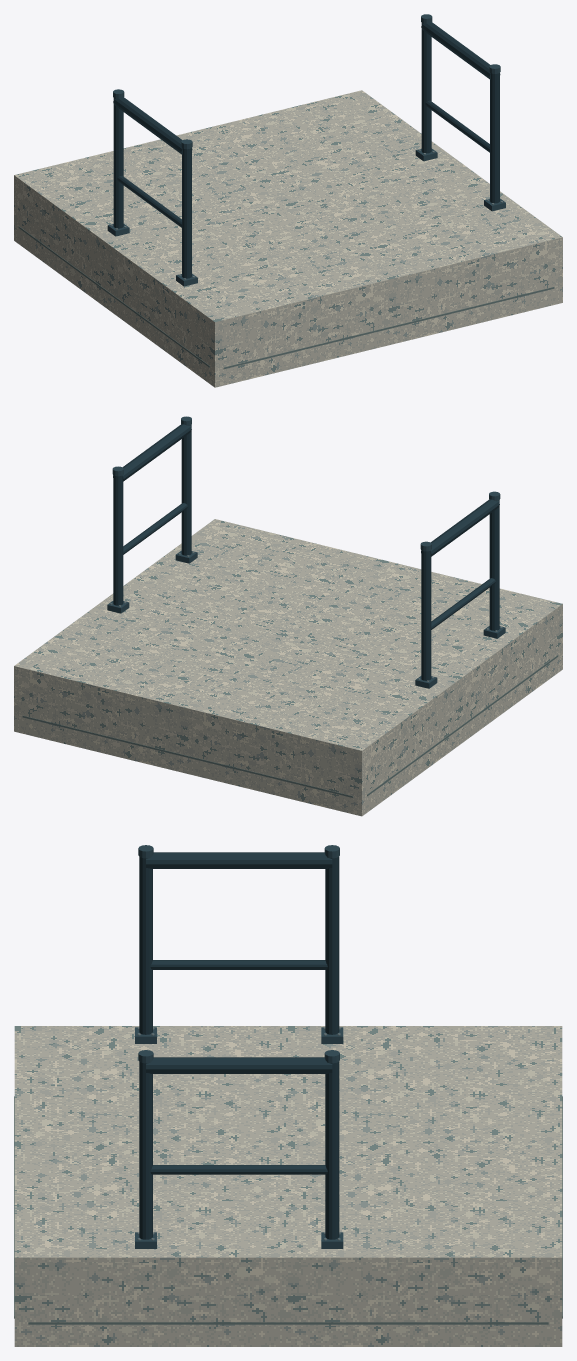
File: b_platform_exit.glb
3 views of the same model, one above another, from view 1: azimuth 30°, elevation 25°; view 2: azimuth 150°, elevation 25°; view 3: azimuth 270°, elevation 25° (orthographic). The views are drawn at different scales.
Parts seen in each view (by area): view 1: b_platform_exit, b_platform_exit_guard_0_post_1, b_platform_exit_guard_1_post_1, b_platform_exit_guard_0_post_0, b_platform_exit_guard_1_post_0, b_platform_exit_guard_0_top, b_platform_exit_guard_1_top, b_platform_exit_front_reveal_1, b_platform_exit_guard_0_low, b_platform_exit_guard_1_low, b_platform_exit_side_reveal_-1; view 2: b_platform_exit, b_platform_exit_guard_0_post_0, b_platform_exit_guard_1_post_0, b_platform_exit_guard_1_post_1, b_platform_exit_guard_0_post_1, b_platform_exit_guard_1_top, b_platform_exit_guard_0_top, b_platform_exit_front_reveal_-1, b_platform_exit_guard_0_low, b_platform_exit_guard_1_low, b_platform_exit_side_reveal_-1; view 3: b_platform_exit, b_platform_exit_guard_0_top, b_platform_exit_guard_1_top, b_platform_exit_guard_1_post_0, b_platform_exit_guard_0_post_0, b_platform_exit_guard_1_post_1, b_platform_exit_guard_0_post_1, b_platform_exit_guard_0_low, b_platform_exit_guard_1_low, b_platform_exit_side_reveal_1.
Part boxes in pixels (<box>): b_platform_exit: <box>14,90,562,387</box>; b_platform_exit_guard_0_post_1: <box>182,148,191,278</box>; b_platform_exit_guard_1_post_1: <box>490,73,499,203</box>; b_platform_exit_guard_0_post_0: <box>113,98,123,228</box>; b_platform_exit_guard_1_post_0: <box>421,23,431,153</box>; b_platform_exit_guard_0_top: <box>113,97,192,154</box>; b_platform_exit_guard_1_top: <box>421,22,500,79</box>; b_platform_exit_front_reveal_1: <box>223,287,554,369</box>; b_platform_exit_guard_0_low: <box>117,175,181,227</box>; b_platform_exit_guard_1_low: <box>425,100,489,152</box>; b_platform_exit_side_reveal_-1: <box>18,226,209,367</box>; b_platform_exit: <box>14,519,562,816</box>; b_platform_exit_guard_0_post_0: <box>421,550,431,680</box>; b_platform_exit_guard_1_post_0: <box>113,475,123,605</box>; b_platform_exit_guard_1_post_1: <box>181,425,191,555</box>; b_platform_exit_guard_0_post_1: <box>489,500,499,630</box>; b_platform_exit_guard_1_top: <box>113,424,191,481</box>; b_platform_exit_guard_0_top: <box>421,499,499,556</box>; b_platform_exit_front_reveal_-1: <box>22,715,353,797</box>; b_platform_exit_guard_0_low: <box>431,578,495,629</box>; b_platform_exit_guard_1_low: <box>123,503,187,554</box>; b_platform_exit_side_reveal_-1: <box>367,655,558,796</box>; b_platform_exit: <box>14,1026,562,1346</box>; b_platform_exit_guard_0_top: <box>146,852,332,868</box>; b_platform_exit_guard_1_top: <box>146,1057,332,1073</box>; b_platform_exit_guard_1_post_0: <box>325,1061,339,1239</box>; b_platform_exit_guard_0_post_0: <box>325,857,339,1034</box>; b_platform_exit_guard_1_post_1: <box>139,1062,152,1239</box>; b_platform_exit_guard_0_post_1: <box>139,857,152,1034</box>; b_platform_exit_guard_0_low: <box>150,960,327,969</box>; b_platform_exit_guard_1_low: <box>150,1165,327,1174</box>; b_platform_exit_side_reveal_1: <box>28,1322,548,1324</box>.
Size of the model in its own units: 2 by 1.13 by 2.
5 materials, 1 textured.
